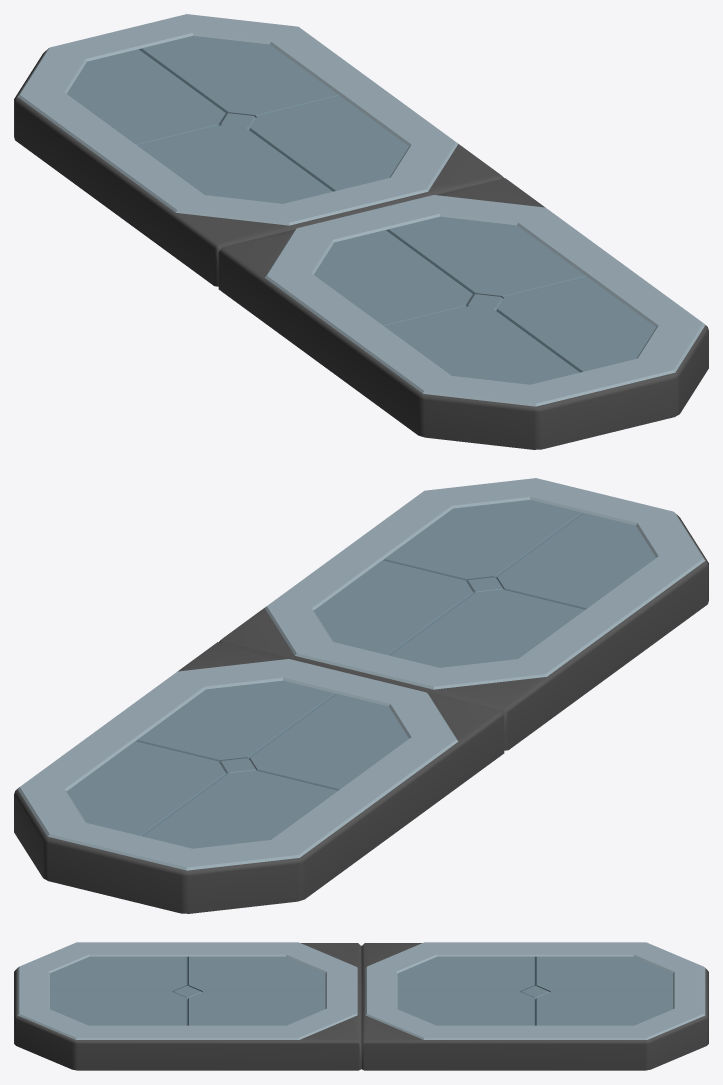
The model's file is platform_008.fbx.
3 renders of one model, top to bottom at view 1: azimuth 30°, elevation 25°; view 2: azimuth 150°, elevation 25°; view 3: azimuth 270°, elevation 25°, orthographic. The views are drawn at different scales.
Visible parts, largest first — view 1: platform_008; view 2: platform_008; view 3: platform_008.
Part boxes in pixels (x1,y1,x2,y2): platform_008: (14, 14, 708, 449); platform_008: (14, 478, 708, 913); platform_008: (14, 942, 708, 1070).
Size of the model in its own units: 726 by 2142 by 105.
